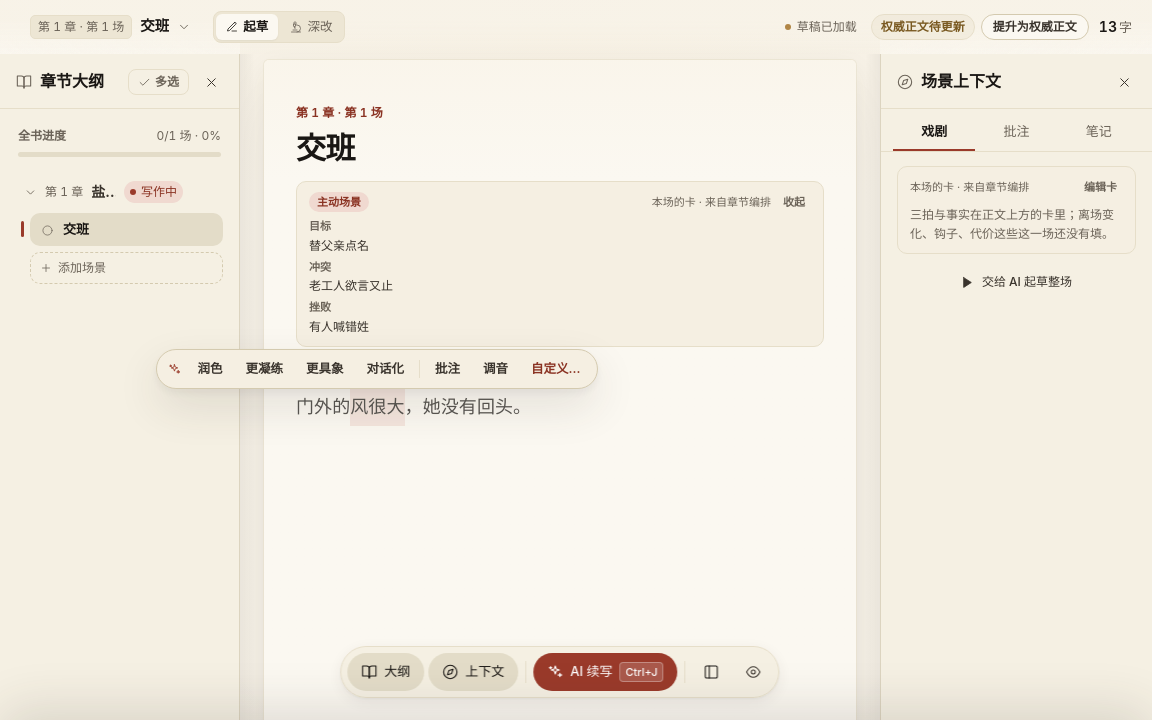
it: 写作台 · 选区改写 › 每一版改写都照搬了参考书：弹层里说位置、已丢掉，给「再试一次」，不叫作者去系统设置
The image size is (1152, 720).
What coordinates should you click on to do the following:
click the button "润色"
I would click on:
 (210, 369)
Its box is x1=186 y1=354 x2=233 y2=384.
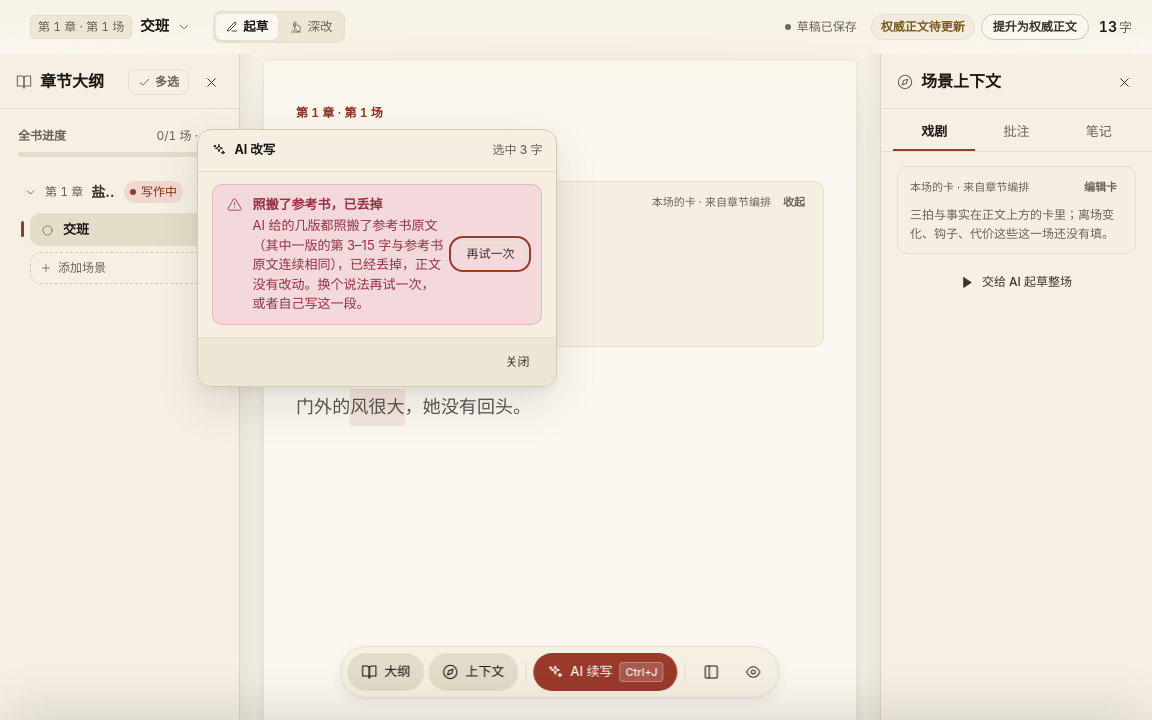
Check: the message with test id "wr-ai-error-copy" is shown, box x1=212 y1=184 x2=542 y2=325
Check: the message with test id "wr-ai-error-copy" shows "第 3–15 字与参考书原文连续相同", box x1=252 y1=217 x2=443 y2=311
Check: the message with test id "wr-ai-error-copy" shows "正文没有改动", box x1=252 y1=217 x2=443 y2=311
